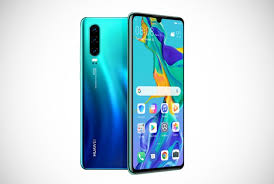huawei: (126, 10, 186, 174), (77, 13, 128, 171)
